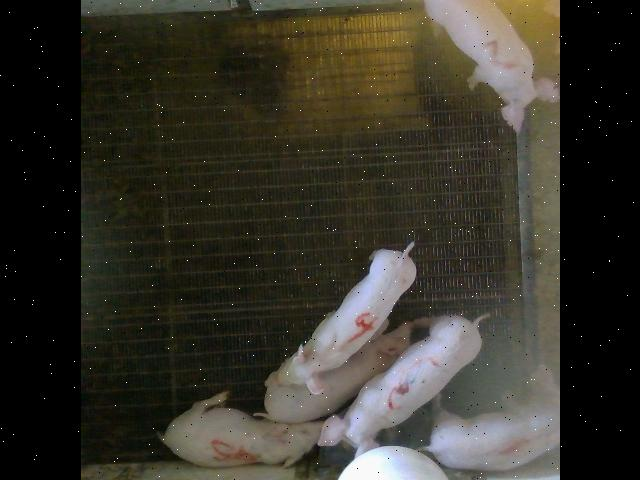pig-1: (425, 410, 558, 469)
pig-2: (423, 0, 558, 131)
pig-3: (316, 316, 481, 455)
pig-4: (276, 243, 414, 394)
pig-5: (158, 392, 319, 468)
